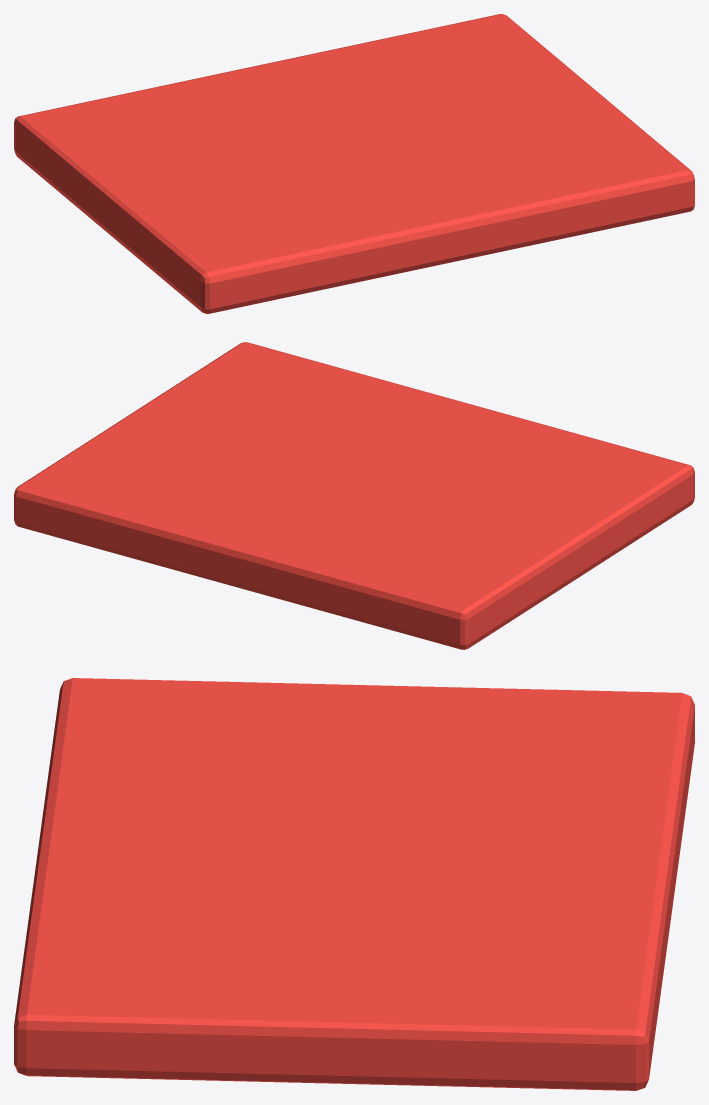
Rendered from copybook.fbx.
3 views of the same model, one above another, from view 1: azimuth 30°, elevation 25°; view 2: azimuth 150°, elevation 25°; view 3: azimuth 270°, elevation 25° (orthographic). The views are drawn at different scales.
Parts seen in each view (by area): view 1: copybook; view 2: copybook; view 3: copybook.
Boxes of the visible parts, x1,y1,x2,y2 form: copybook: (14,14,694,313); copybook: (14,342,694,649); copybook: (14,678,694,1090).
Size of the model in its own units: 11.91 by 0.9495 by 9.54.
